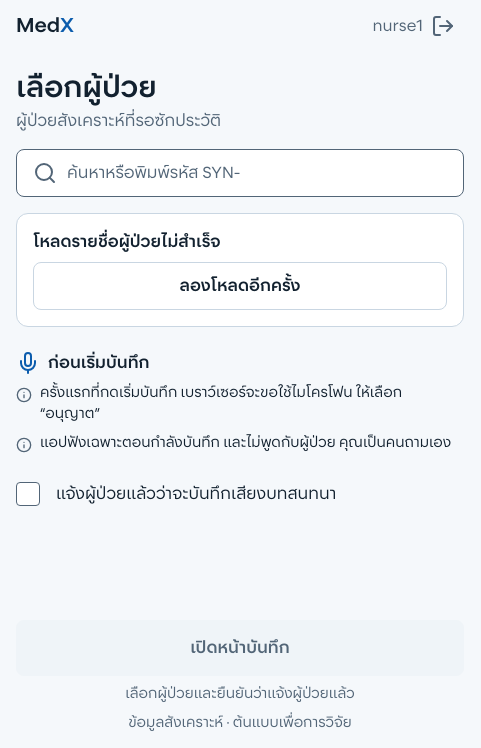
Test case: patient list states › load error → error copy and a reload action
This screenshot has width=481, height=748.
Expected: the text "โหลดรายชื่อผู้ป่วยไม่สำเร็จ" is shown, [33,234,221,250]
Click the button "ลองโหลดอีกครั้ง".
click(240, 286)  # box [33,262,447,310]
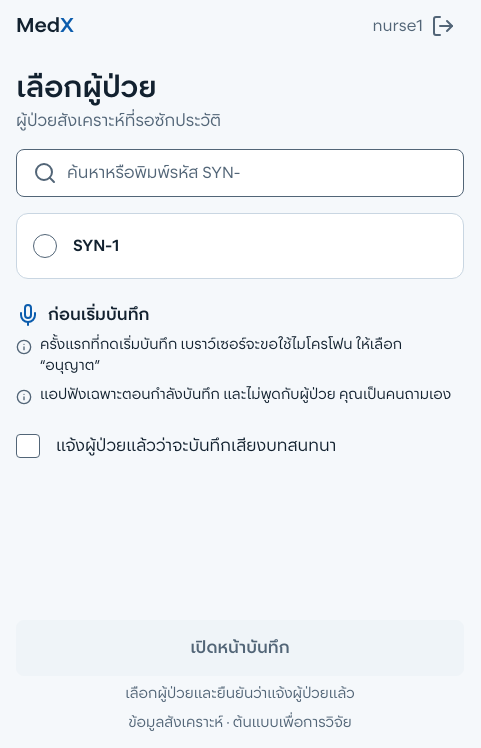
Result: the radio button labelled "SYN-1" is shown at [33,234,119,258]
